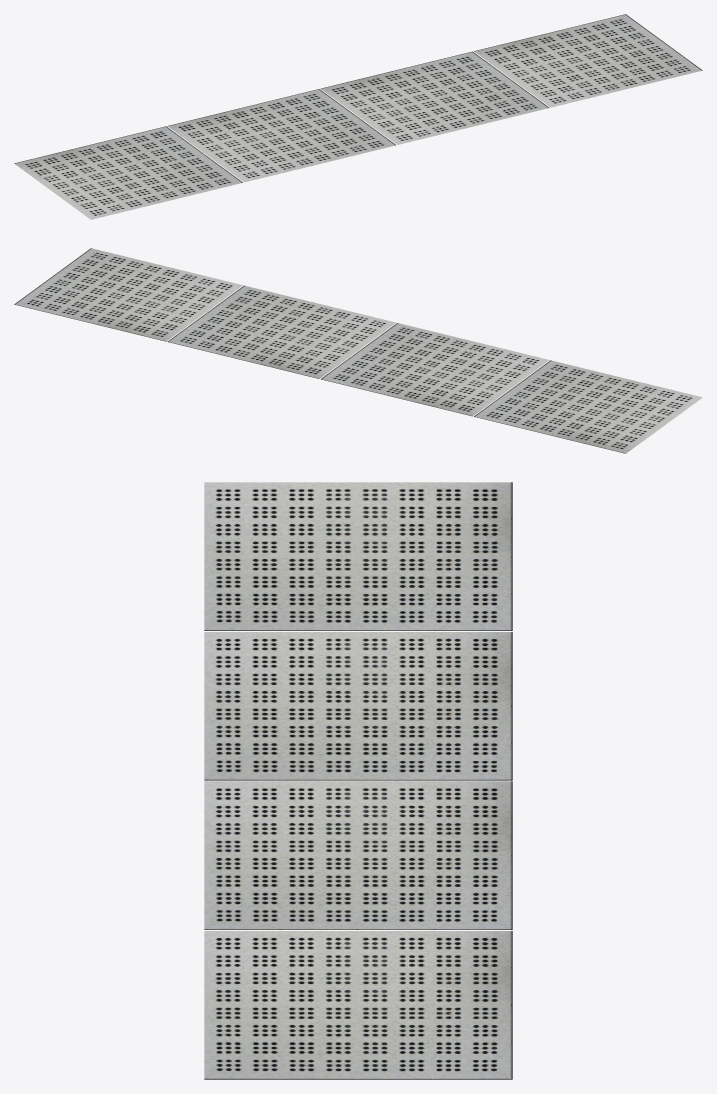
Rendered from windfloor.obj.
The picture shows the model from 3 angles, top to bottom: view 1: azimuth 30°, elevation 25°; view 2: azimuth 150°, elevation 25°; view 3: azimuth 270°, elevation 25°; orthographic projection. The views are drawn at different scales.
Visible parts, largest first — view 1: Plane233132, Plane2531313, Plane233133, Plane2531314; view 2: Plane233132, Plane2531313, Plane233133, Plane2531314; view 3: Plane233132, Plane233133, Plane2531313, Plane2531314.
Boxes of the visible parts, x1,y1,x2,y2 form: Plane233132: (167,89,395,182); Plane2531313: (321,51,549,144); Plane233133: (474,14,702,107); Plane2531314: (14,126,242,219); Plane233132: (321,323,549,416); Plane2531313: (167,285,395,378); Plane233133: (14,248,242,341); Plane2531314: (474,360,702,453); Plane233132: (204,632,512,780); Plane233133: (204,931,512,1079); Plane2531313: (204,781,512,929); Plane2531314: (204,482,512,630).
Size of the model in its own units: 4039 by 0 by 881.
Materials: 1 (1 with a texture image).
